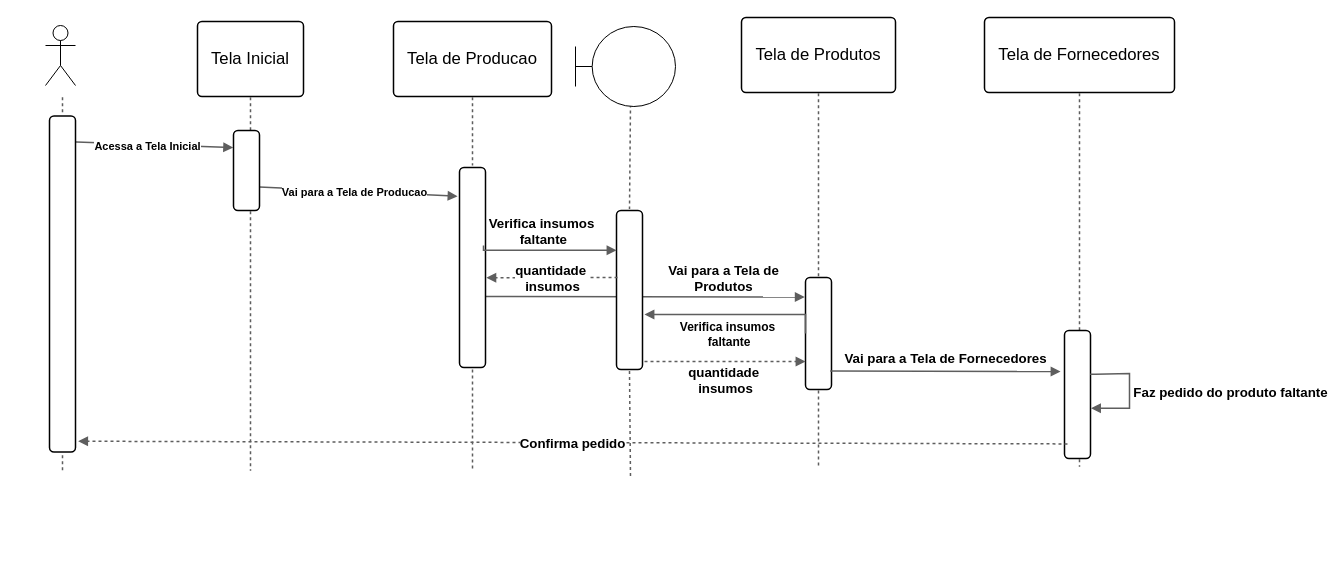
Image size: 1344x564. Some labels were removed from this diagram. Here are the shapes that lost their labels. From the top down, the box of each, then its label:
(44, 24, 76, 86): ADM
(574, 26, 676, 106): tbl_insumos
